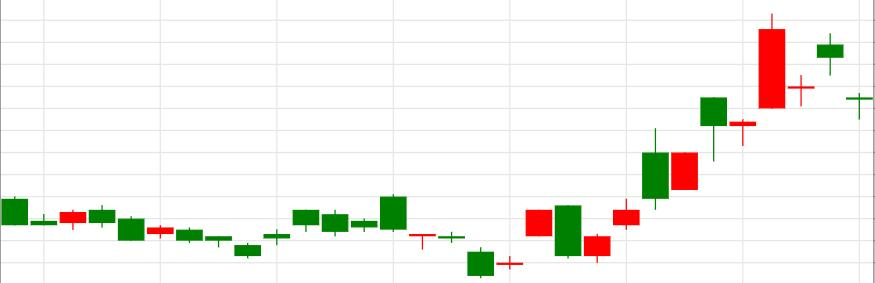hanging_man_fall: (584, 98, 727, 263)
